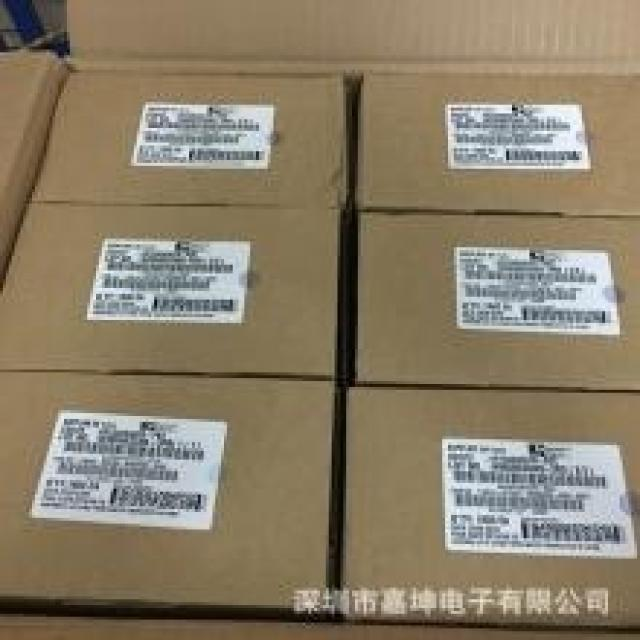box: (2, 1, 637, 636), (3, 368, 337, 620), (340, 386, 637, 628), (2, 202, 341, 375), (357, 213, 637, 384), (25, 69, 351, 210), (354, 69, 637, 218)
